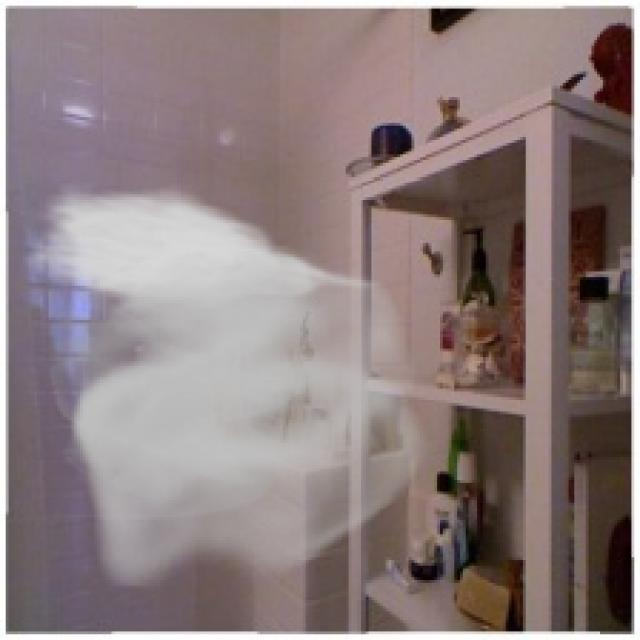smoke: (23, 183, 437, 588)
